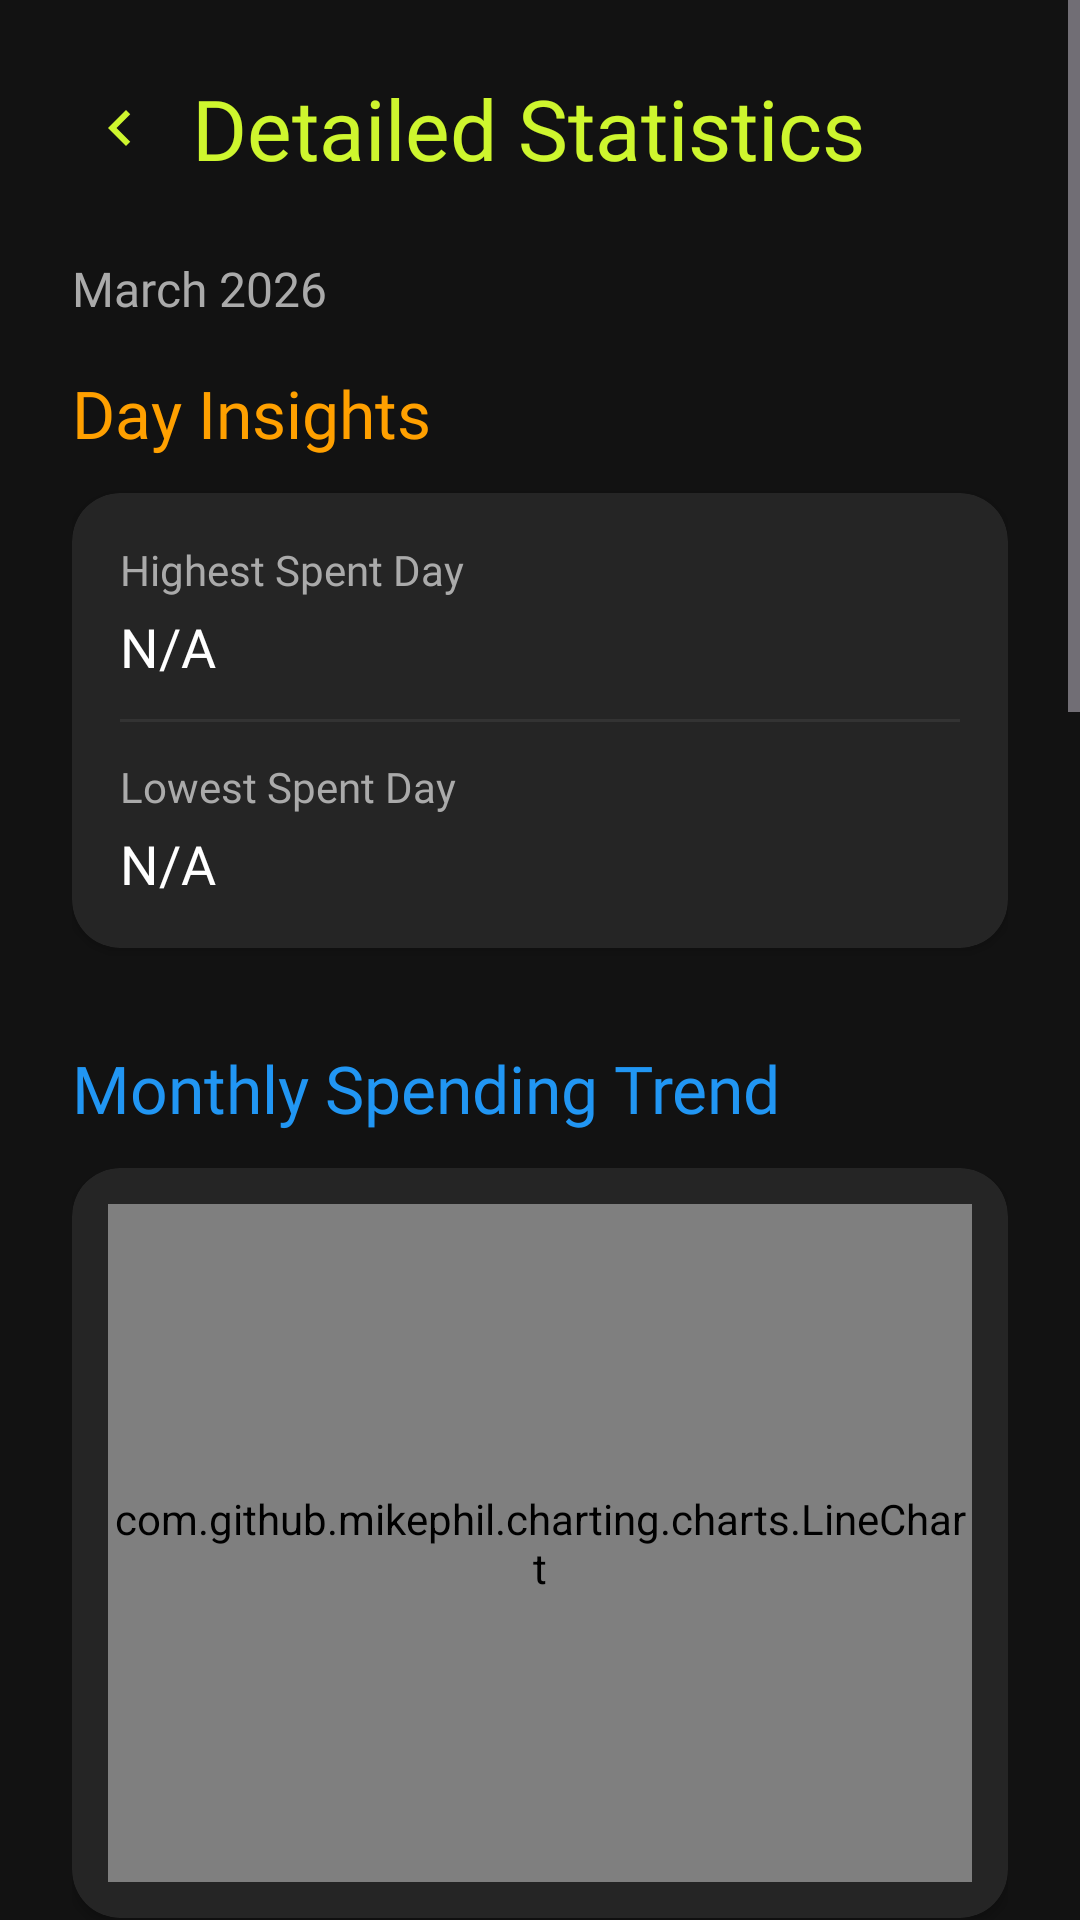

Point at icon controls on the screen. Image size 1080 x 1920, points as [x,y].
chevron left: [119,128]
